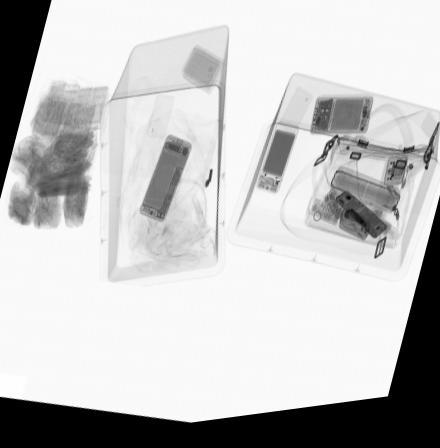Powerbank: (253, 129, 300, 204)
